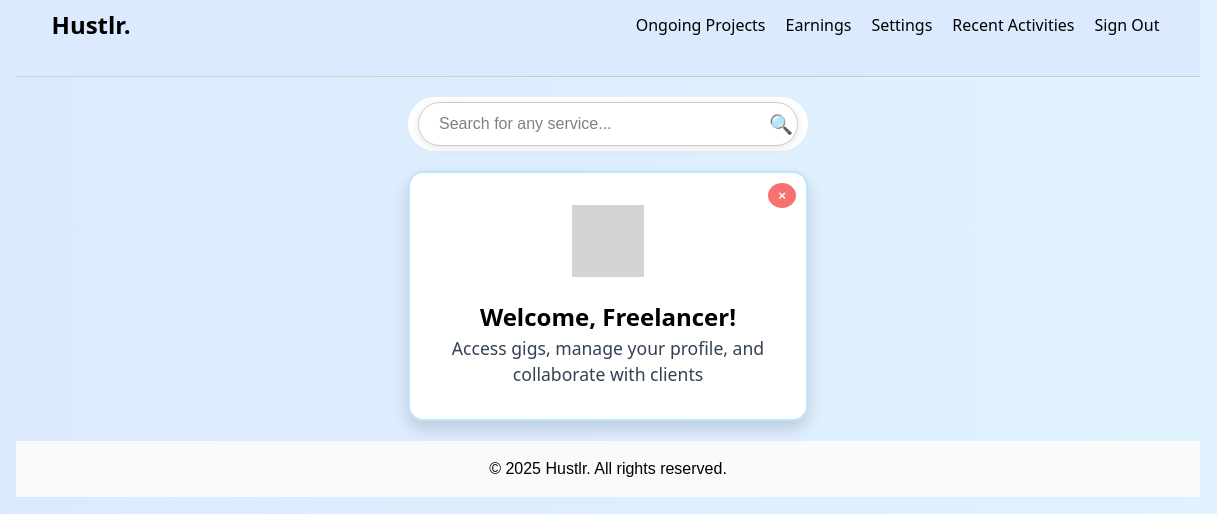
Test case: Freelancers Component › hides welcome box and shows categories after closing
Click the button "×" at point(782, 195), box left=768, top=183, right=796, bottom=208
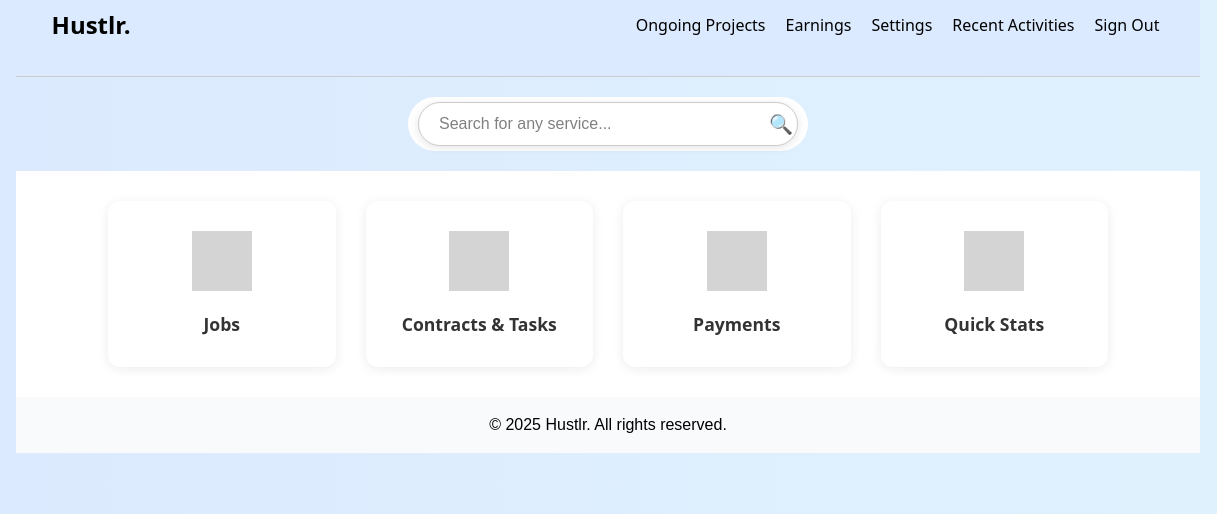
Result: the heading "Welcome, Freelancer!" is gone
Result: the text "Jobs" is shown at left=203, top=311, right=240, bottom=337
Result: the text "Payments" is shown at left=693, top=311, right=780, bottom=337
